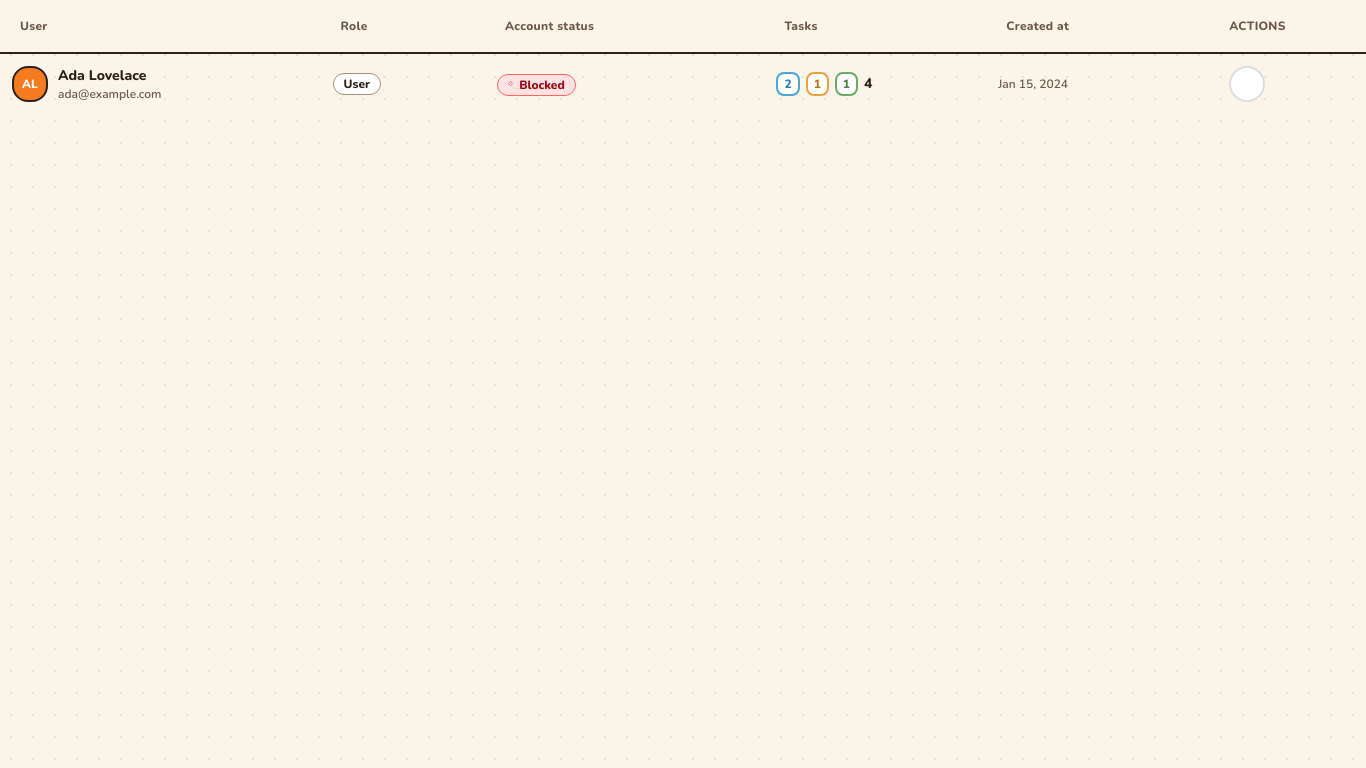
Test: the users table › offers to unblock rather than block a blocked account
The image size is (1366, 768).
Step 1. Click the button named "Actions for Ada Lovelace" → [1247, 84], box [1229, 66, 1265, 102]
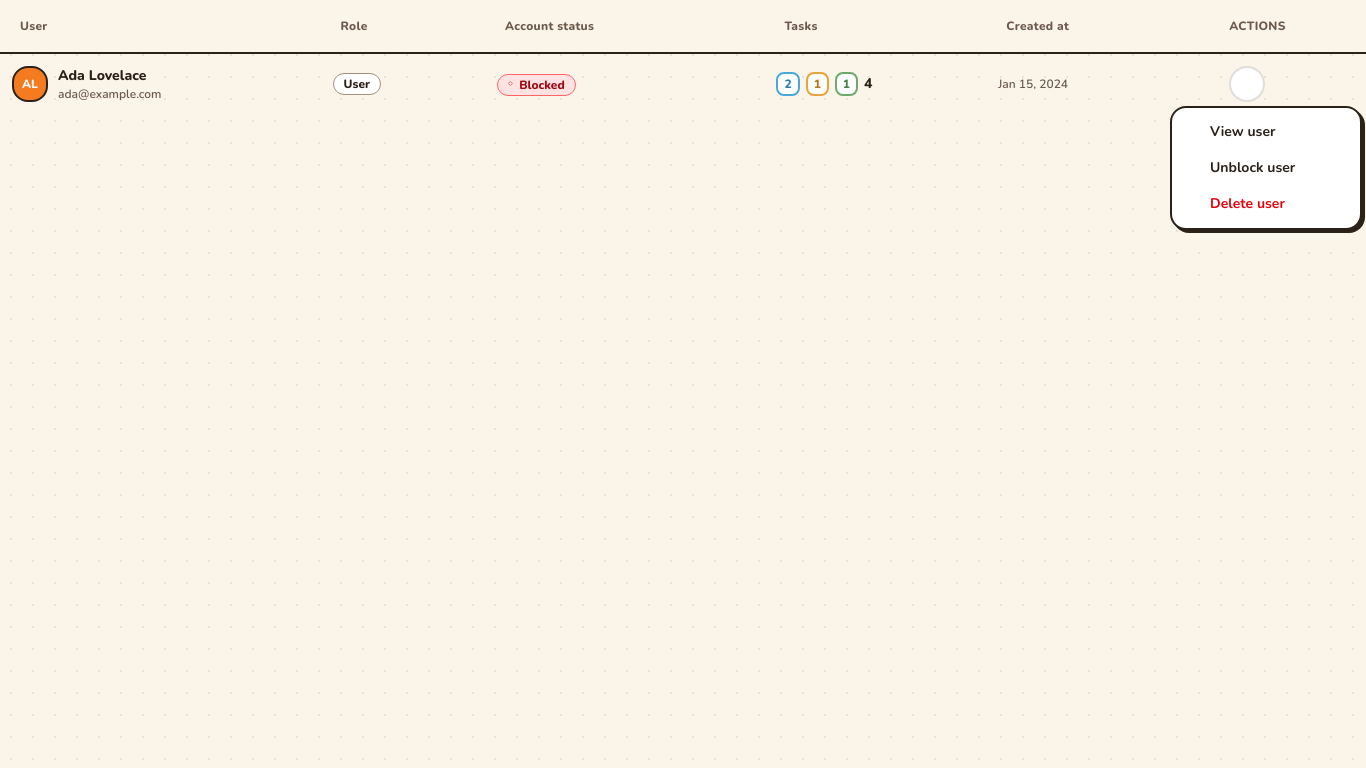
Expected: the menu item "Unblock user" is shown, [1172, 150, 1360, 186]
